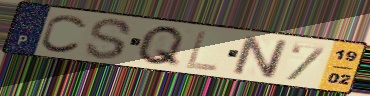7: (285, 40, 330, 82)
C: (38, 13, 90, 55)
L: (183, 29, 222, 73)
N: (230, 33, 290, 81)
Q: (133, 24, 187, 69)
S: (83, 17, 135, 62)
